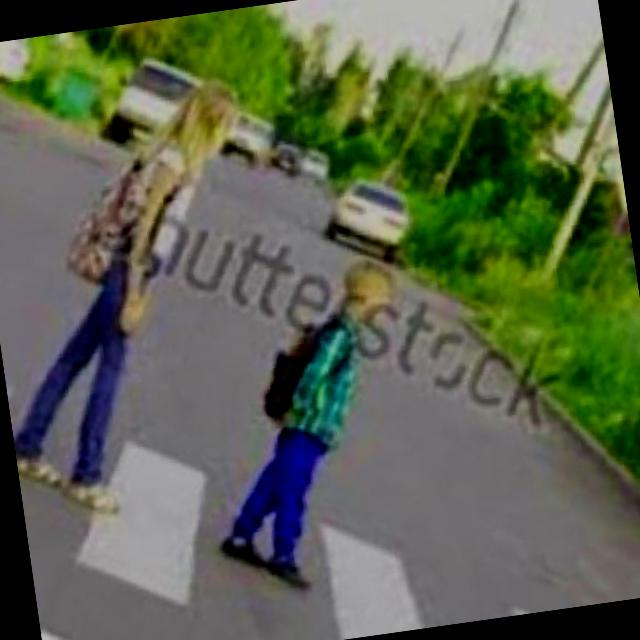Person: (0, 65, 293, 527), (182, 250, 438, 604)
